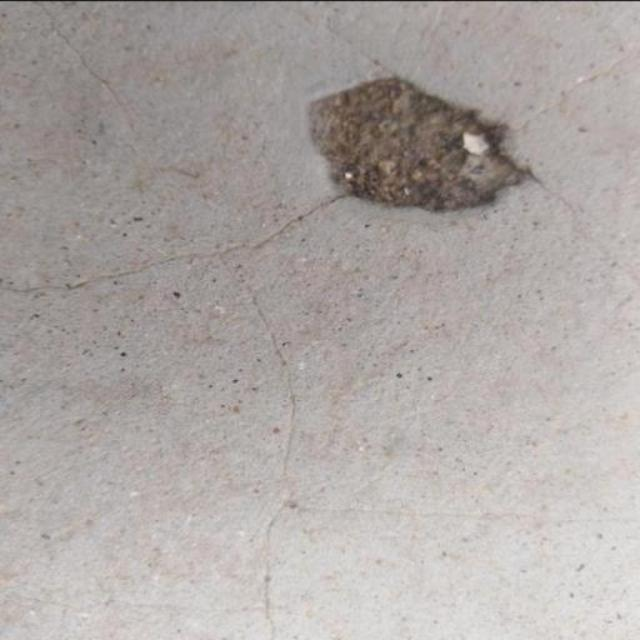D10: (310, 74, 541, 213)
